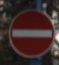No entry: (6, 6, 54, 59)
